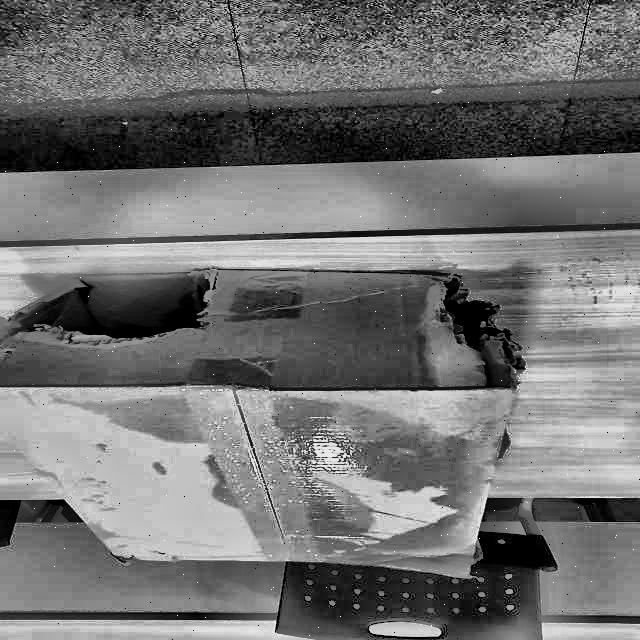box: (1, 249, 584, 594)
hole: (20, 264, 220, 353), (426, 270, 511, 363)
wet: (61, 395, 500, 584)
